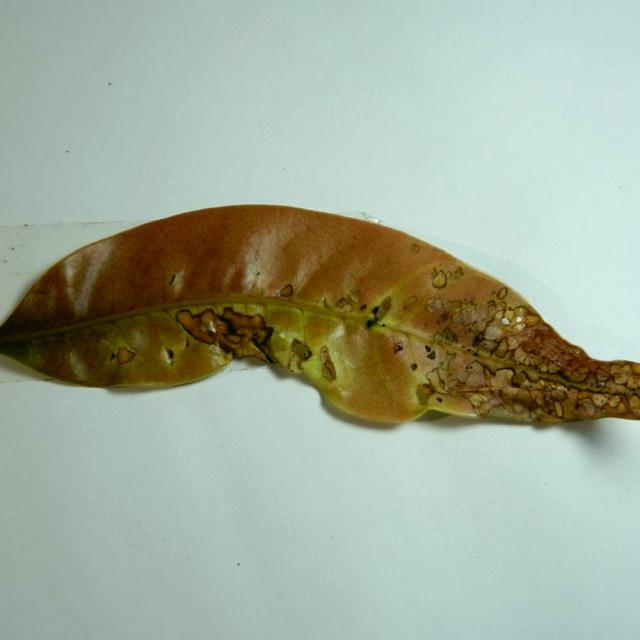Anthracnose: (423, 281, 531, 357), (393, 331, 455, 393), (530, 382, 632, 419), (508, 330, 586, 377), (467, 382, 551, 416), (403, 294, 464, 338), (433, 350, 487, 392), (577, 360, 635, 394), (301, 311, 341, 358), (175, 309, 220, 345), (488, 302, 534, 336), (225, 331, 273, 363), (454, 304, 493, 336), (221, 308, 265, 332), (534, 338, 571, 364), (113, 343, 144, 372), (221, 262, 250, 291), (550, 391, 581, 417), (599, 377, 634, 398), (215, 329, 244, 353), (608, 363, 634, 385), (463, 364, 485, 388), (425, 368, 446, 392), (478, 394, 506, 412), (513, 345, 538, 365), (604, 394, 629, 413), (423, 343, 443, 366), (494, 336, 514, 359), (175, 310, 198, 330), (516, 369, 543, 386), (492, 368, 514, 388), (291, 337, 310, 359), (466, 391, 489, 409), (483, 323, 505, 341), (439, 349, 457, 371), (287, 350, 304, 373), (477, 336, 501, 352), (208, 342, 226, 363), (569, 365, 589, 382), (431, 269, 448, 289), (322, 357, 336, 381), (200, 309, 218, 326), (218, 346, 234, 365), (512, 305, 531, 320), (374, 305, 390, 322), (426, 297, 444, 312), (549, 387, 568, 401), (402, 295, 418, 311), (581, 399, 596, 416), (259, 326, 274, 342), (591, 393, 608, 407), (278, 284, 294, 298), (335, 296, 350, 310), (379, 298, 392, 314), (522, 341, 538, 352), (496, 287, 508, 300), (320, 296, 331, 309), (165, 348, 174, 363), (496, 301, 507, 313), (487, 300, 497, 313), (409, 243, 420, 254), (454, 266, 464, 278), (394, 343, 403, 354), (168, 274, 176, 286), (372, 306, 380, 316), (109, 352, 116, 362), (424, 345, 432, 353), (359, 304, 368, 311), (410, 363, 417, 371), (635, 363, 640, 374), (185, 340, 190, 348), (256, 271, 260, 276)
Mango: (0, 205, 639, 434)
